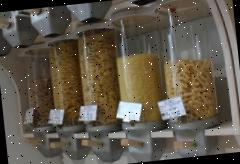glass: (10, 0, 219, 142)
